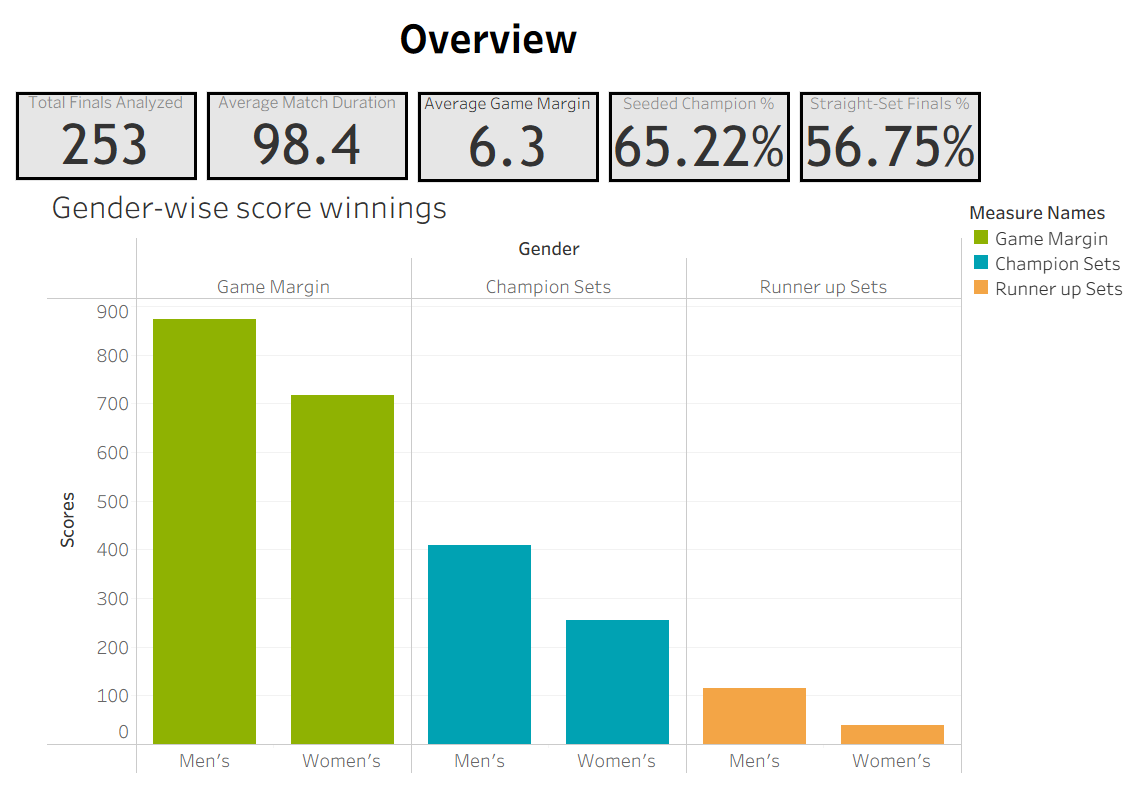

What the dashboard file says about the page in this screenshot:
{"tool":"tableau","page":{"name":"Overview","canvas":[1000,1000],"units":"permille","ordinal":3},"visuals":[{"type":"worksheet","title":"KPI5","mark":"Automatic","box":[4.8,19.9,113.5,130.3]},{"type":"worksheet","title":"KPI1","mark":"Automatic","box":[118.3,19.9,125.5,130.3]},{"type":"worksheet","title":"KPI2","mark":"Automatic","box":[243.8,19.9,113.5,130.3]},{"type":"worksheet","title":"KPI3","mark":"Automatic","box":[357.3,19.9,113.5,130.3]},{"type":"worksheet","title":"KPI4","mark":"Automatic","box":[470.7,19.9,113.5,130.3]},{"type":"worksheet","title":"Winning analysis","mark":"Automatic","cols":["Gender"],"box":[29.6,156.3,552.2,807.7]},{"type":"legend","title":"Winning analysis","param":"[federated.01jto3704wzyrt1ezxsug0gk7e6s].[:Measure Names]","box":[588.4,160.1,96.6,125.3]}]}

Visuals, with their boxes on the dashboard's canvas, which has no fixed pixel size, in thousandths of its width and height (x1, y1, x2, y2). These are canvas units, not pixel positions in the 1137x793 screenshot, which may show the page scaled, cropped or inside an application window:
"KPI5" worksheet: [5, 20, 118, 150]
"KPI1" worksheet: [118, 20, 244, 150]
"KPI2" worksheet: [244, 20, 357, 150]
"KPI3" worksheet: [357, 20, 471, 150]
"KPI4" worksheet: [471, 20, 584, 150]
"Winning analysis" worksheet: [30, 156, 582, 964]
"Winning analysis" legend: [588, 160, 685, 285]
